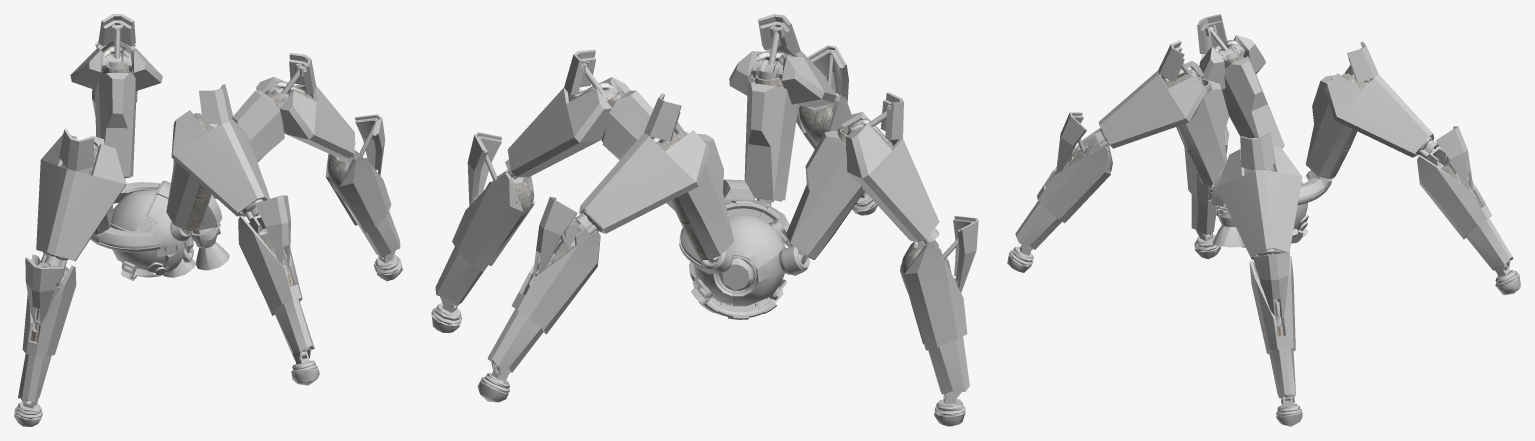
File: leaper.obj
3 renders of one model, left to right at view 1: azimuth 30°, elevation 25°; view 2: azimuth 150°, elevation 25°; view 3: azimuth 270°, elevation 25°, orthographic. The views are drawn at different scales.
Parts seen in each view (by area): view 1: Shell, Head, Hydraulics, LowerShell; view 2: Shell, Hydraulics, Head, LowerShell; view 3: Shell, Hydraulics, LowerShell, Head.
Part boxes in pixels (x1,y1,x2,y2): Shell: (18,14,400,402); Head: (90,180,229,280); Hydraulics: (14,53,402,426); LowerShell: (31,45,368,342); Shell: (435,14,978,394); Hydraulics: (431,59,965,426); Head: (679,179,809,319); LowerShell: (485,51,951,306); Shell: (1015,14,1513,398); Hydraulics: (1007,43,1520,426); LowerShell: (1067,40,1481,336); Head: (1210,167,1332,247).
Size of the model in its own units: 63.32 by 43.8 by 70.39.
